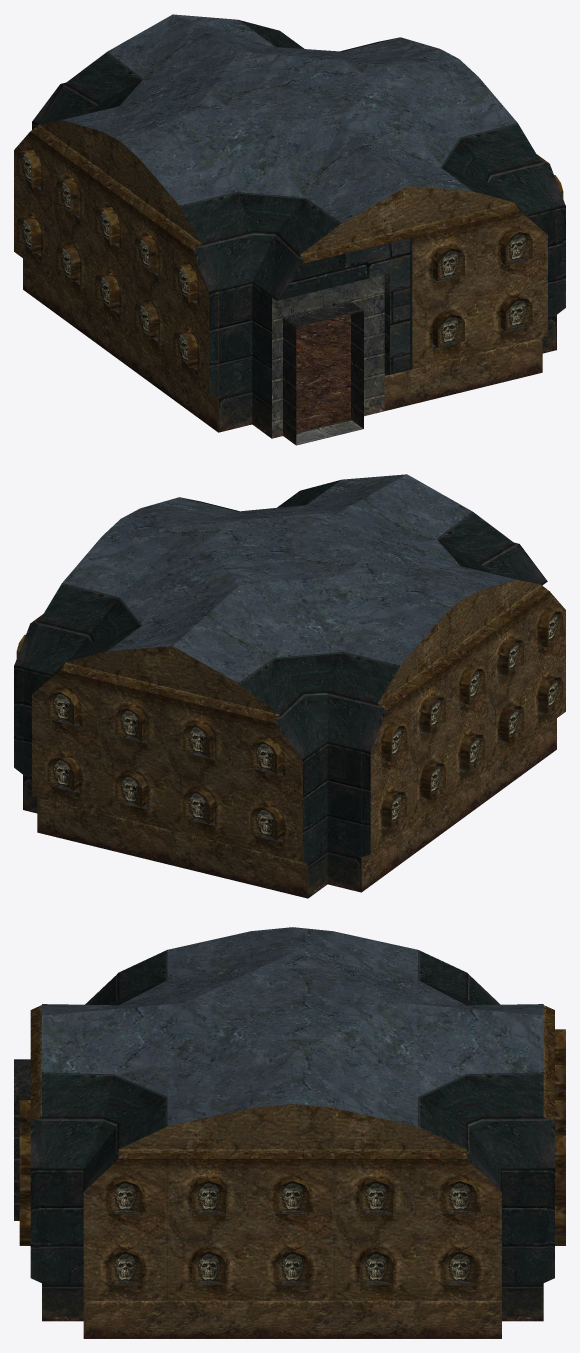
3 renders of one model, top to bottom at view 1: azimuth 30°, elevation 25°; view 2: azimuth 150°, elevation 25°; view 3: azimuth 270°, elevation 25°, orthographic. The views are drawn at different scales.
Parts seen in each view (by area): view 1: node-03846FFF, node-01B961C7, node-02186980, node-02DBB587; view 2: node-03846FFF, node-01B961C7; view 3: node-03846FFF, node-01B961C7, node-02186980.
Part boxes in pixels (x1,y1,x2,y2): node-03846FFF: (14,20,565,438); node-01B961C7: (62,14,517,222); node-02186980: (272,273,389,445); node-02DBB587: (296,314,350,432); node-03846FFF: (14,479,565,898); node-01B961C7: (62,474,517,682); node-03846FFF: (19,950,565,1338); node-01B961C7: (42,927,543,1126); node-02186980: (14,1059,30,1220).
Bounding box in the file's own units: 332 × 196 × 396.
4 materials, 4 textured.
